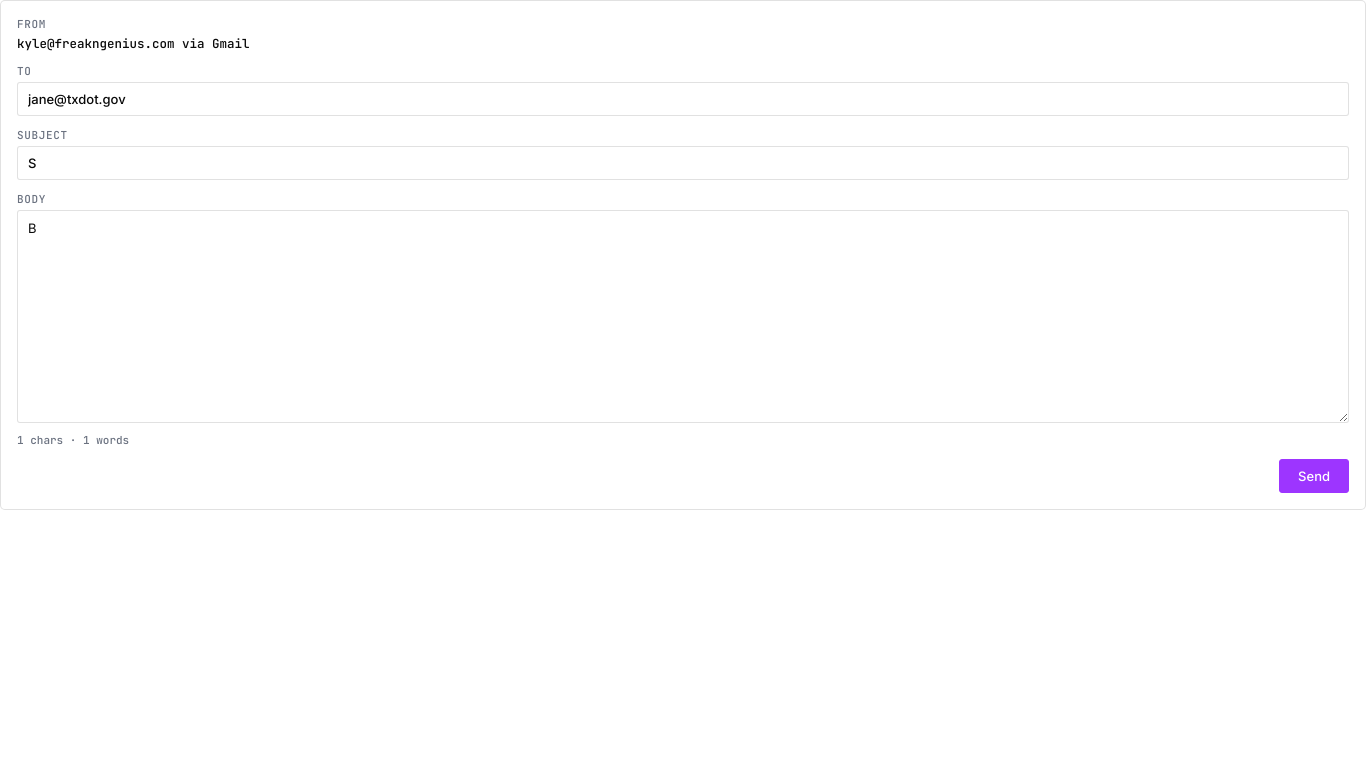
OutreachComposer — no_active_integration handling › surfaces the Activate Integration card when Send returns code=no_connection
The image size is (1366, 768).
Click the button with test id "outreach-composer-send" at (1314, 476), box 1279,459 -> 1349,493
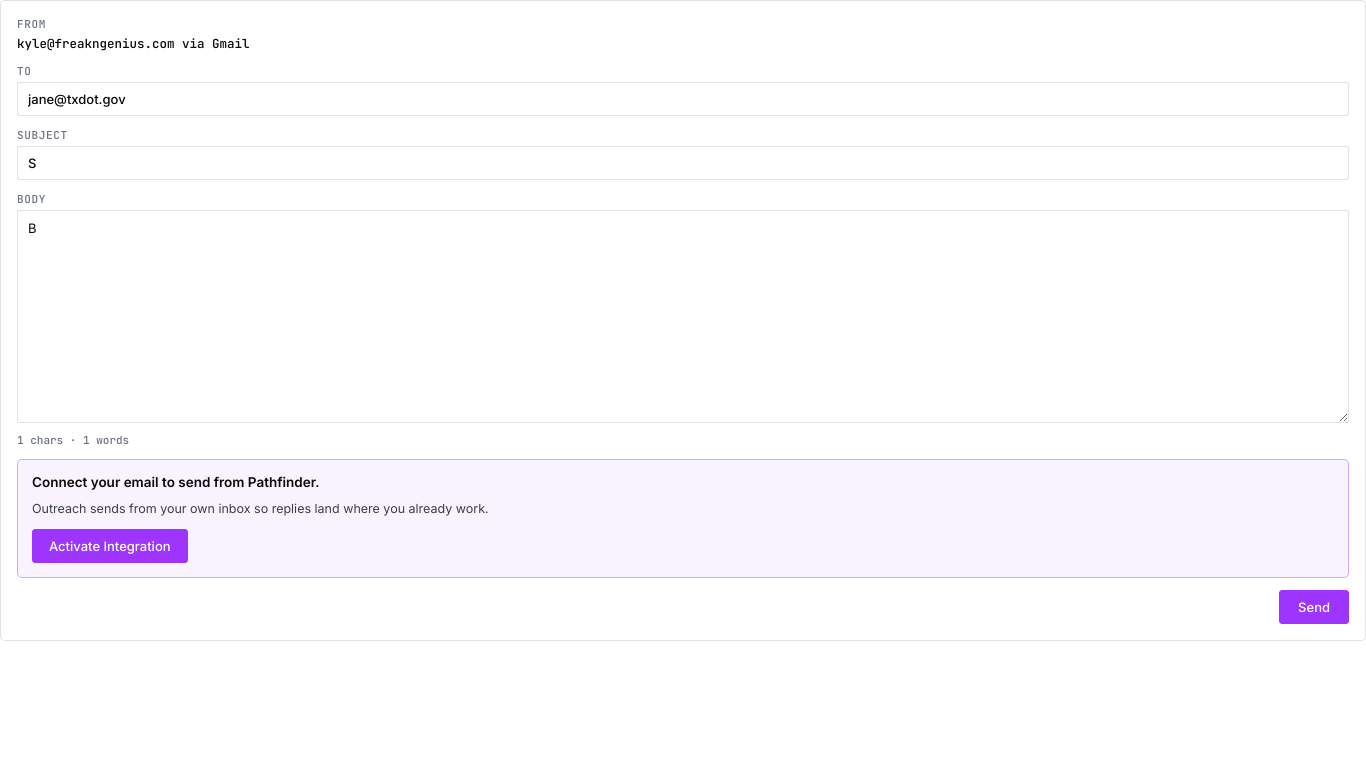
Expected: the element with test id "outreach-composer-needs-connection" is shown, 17,459 -> 1349,578
Expected: the button with test id "outreach-composer-activate-integration" is shown, 32,529 -> 188,563
Expected: the text "Connect your email to send from Pathfinder." is shown, 32,474 -> 320,490
